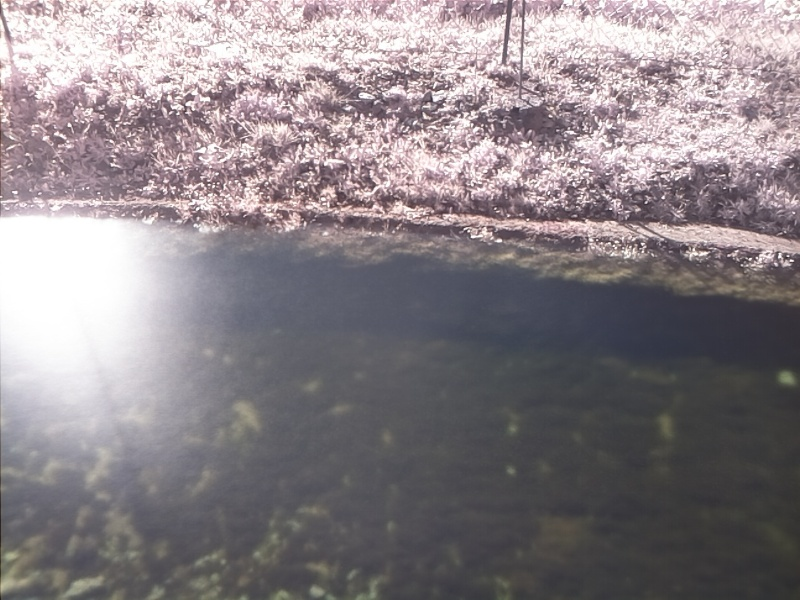Water: (1, 215, 800, 599)
